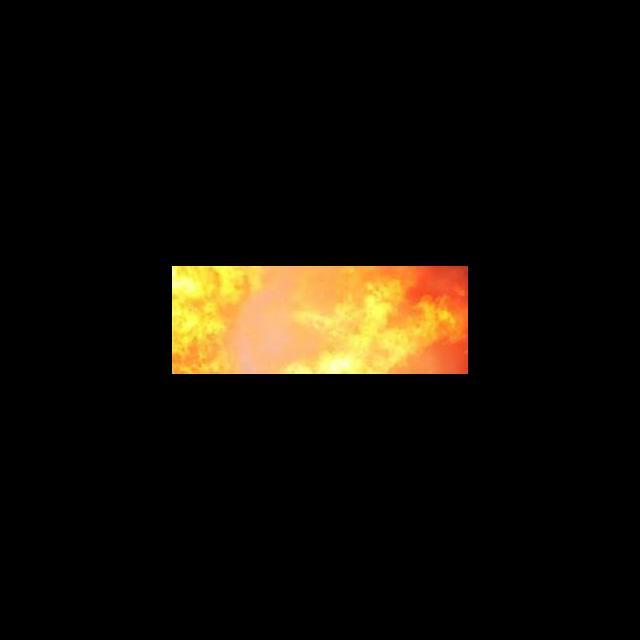Fire: (173, 266, 468, 373)
